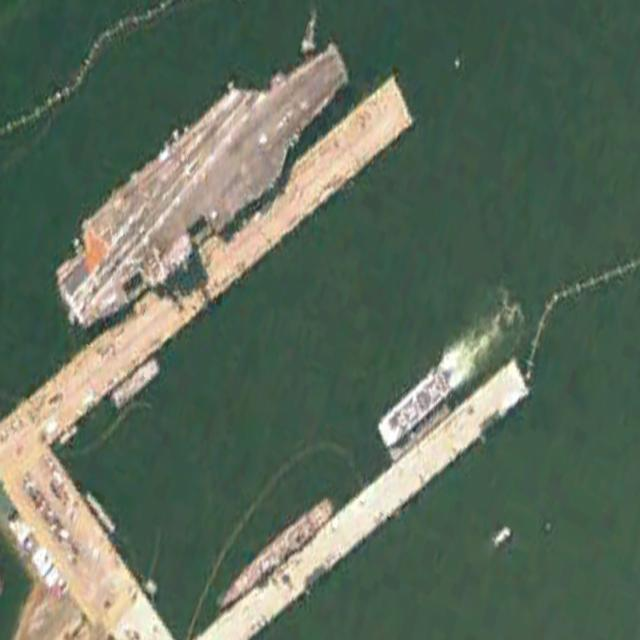Aircraft Carrier: (44, 10, 364, 352)
Other Warship: (212, 492, 336, 613)
